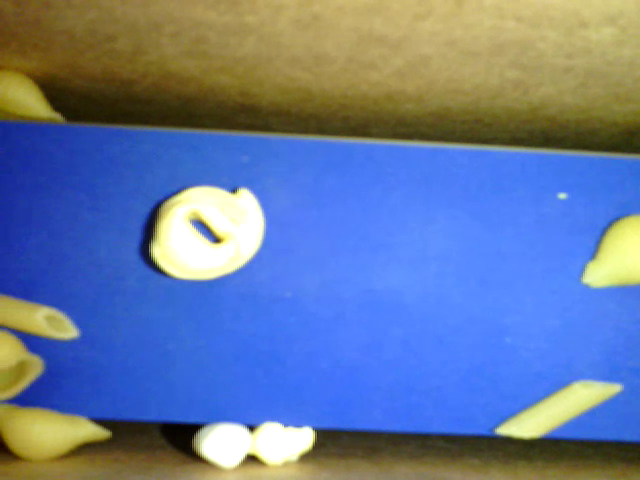penne: (496, 377, 626, 445)
shell: (1, 402, 118, 467), (579, 211, 639, 294), (1, 57, 66, 123), (1, 323, 45, 406)
tortellini: (144, 185, 266, 284)
